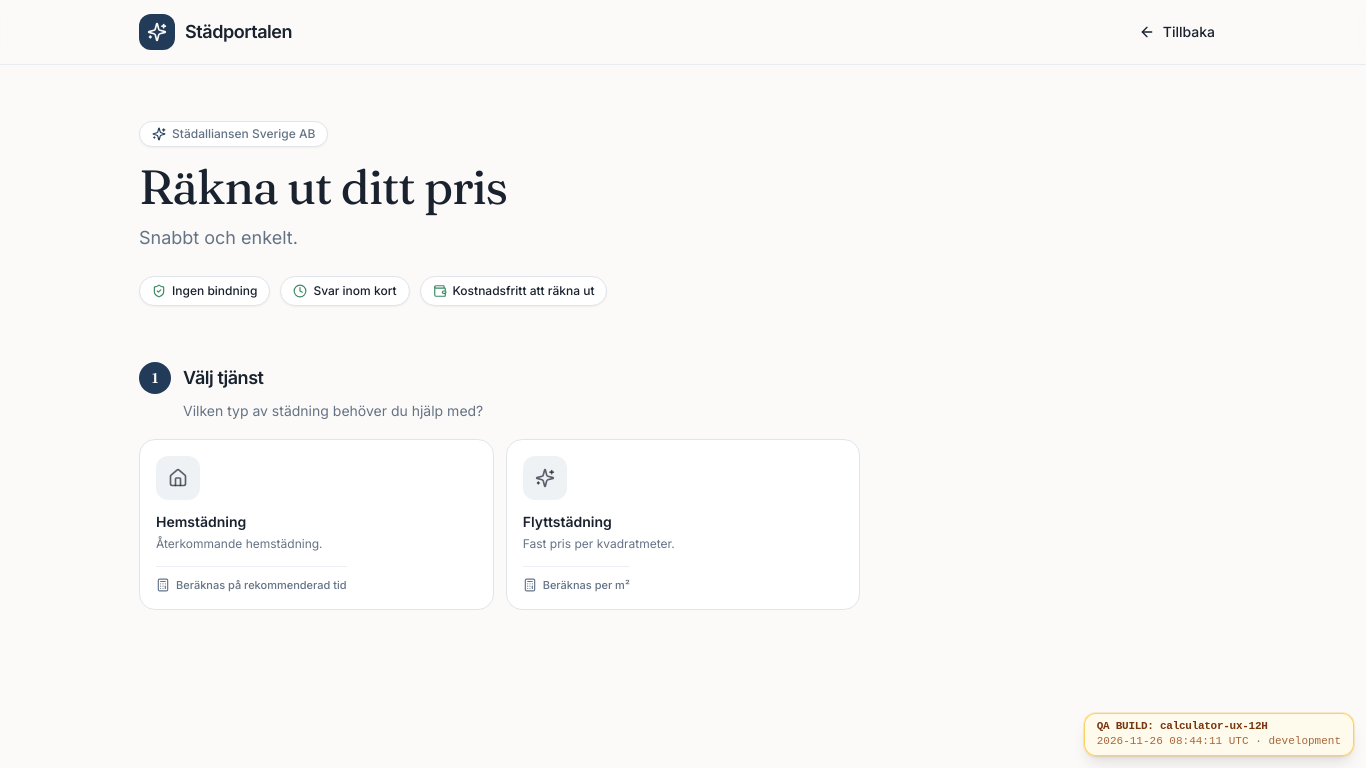
Test: PriceCalculator — generic add-ons public flow (GPM-10-C) › keeps legacy/Home unchanged (no Tillval step; normal details flow)
Click the button "Hemstädning": (178, 478) [139,439,494,610]
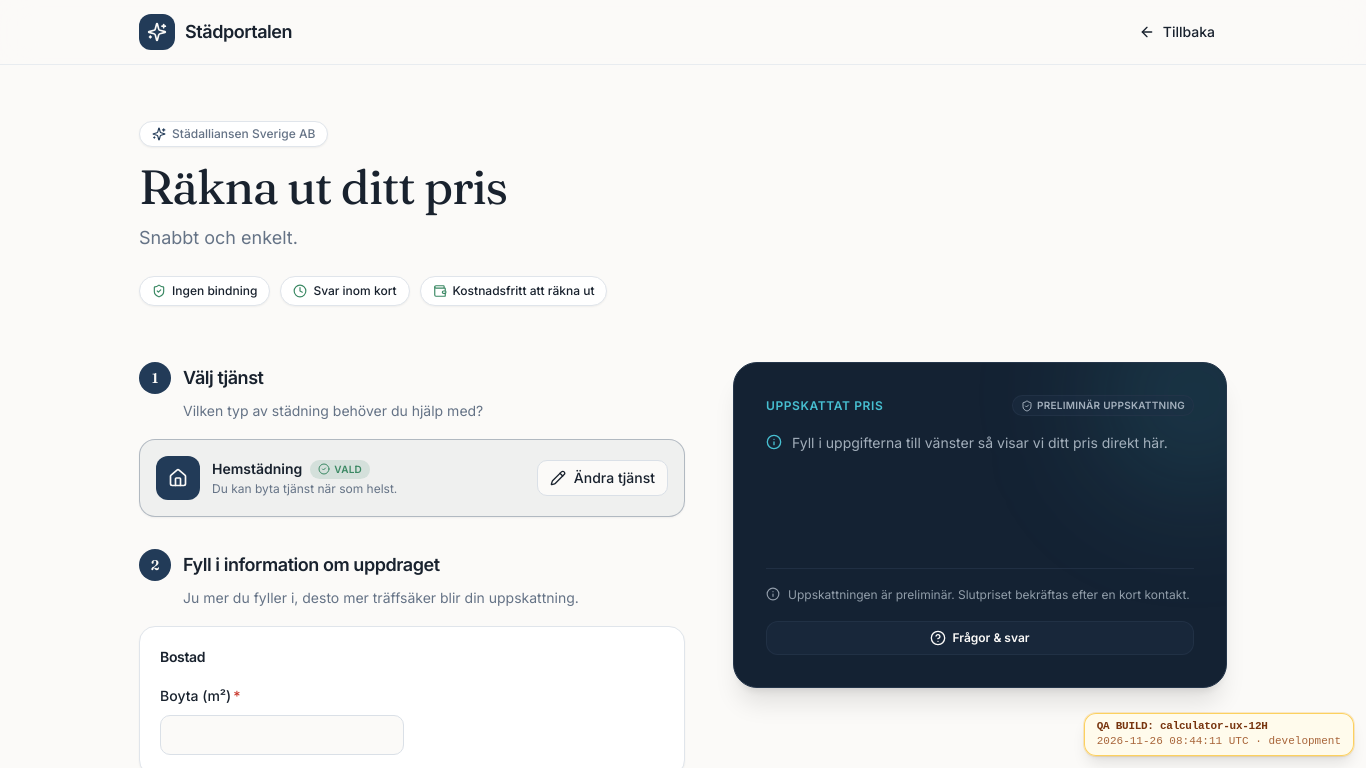
Result: the heading "Fyll i information om uppdraget" is shown at [183,551,440,579]
